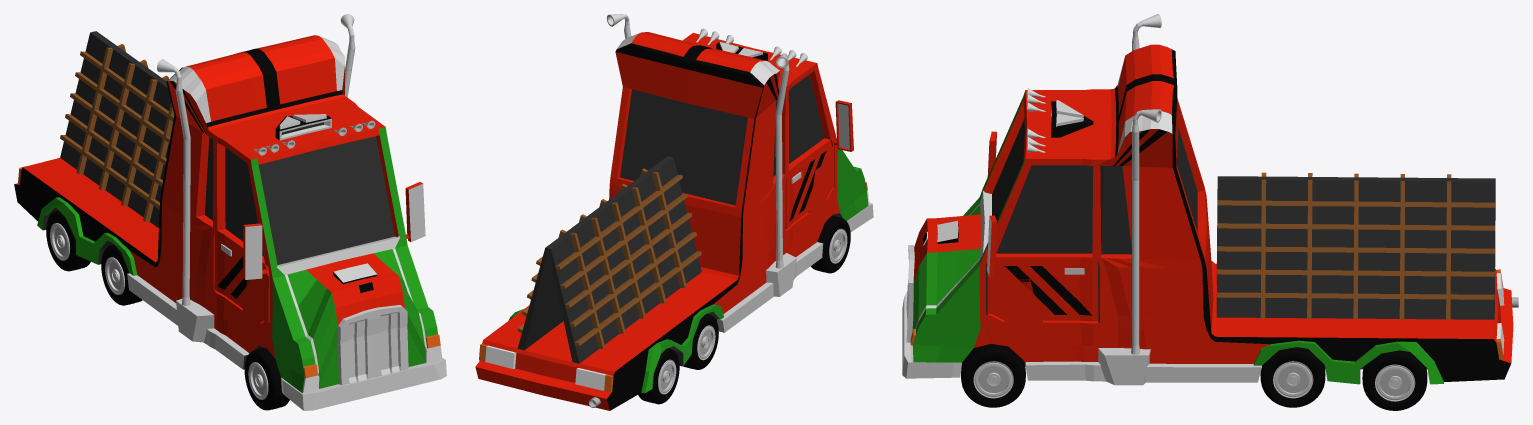
The picture shows the model from 3 angles, left to right: view 1: azimuth 30°, elevation 25°; view 2: azimuth 150°, elevation 25°; view 3: azimuth 270°, elevation 25°; orthographic projection. The views are drawn at different scales.
Visible parts, largest first — view 1: BODY31B, WHEEL.001, WHEEL.006, WHEEL.004; view 2: BODY31B, WHEEL.001, WHEEL.006, WHEEL.004; view 3: BODY31B, WHEEL.003, WHEEL.005, WHEEL.002.
Boxes of the visible parts, x1,y1,x2,y2 form: BODY31B: [14, 14, 446, 410]; WHEEL.001: [244, 347, 289, 410]; WHEEL.006: [46, 210, 90, 271]; WHEEL.004: [101, 244, 142, 305]; BODY31B: [475, 14, 873, 410]; WHEEL.001: [811, 215, 850, 273]; WHEEL.006: [638, 348, 679, 404]; WHEEL.004: [683, 314, 718, 369]; BODY31B: [902, 14, 1513, 385]; WHEEL.003: [961, 344, 1025, 407]; WHEEL.005: [1362, 350, 1427, 410]; WHEEL.002: [1260, 347, 1325, 407].
Bounding box in the file's own units: 158 × 227 × 409.
